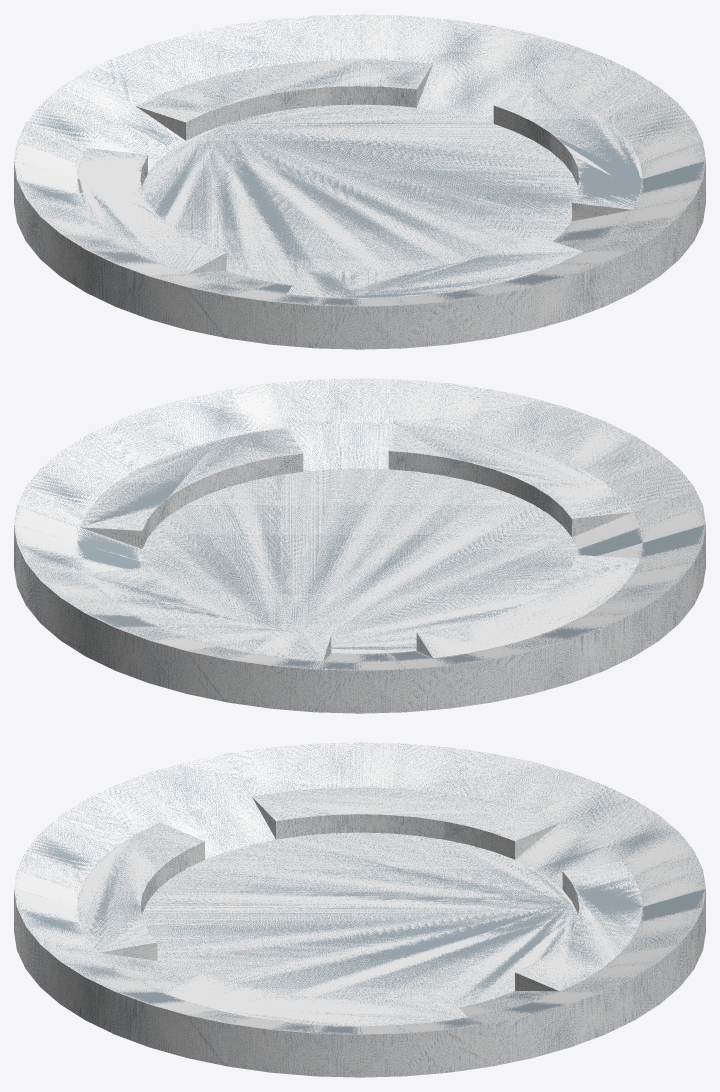
File: 导航地图中心剧场.fbx
3 renders of one model, top to bottom at view 1: azimuth 30°, elevation 25°; view 2: azimuth 150°, elevation 25°; view 3: azimuth 270°, elevation 25°, orthographic.
Parts seen in each view (by area): view 1: Group1; view 2: Group1; view 3: Group1.
Part boxes in pixels (x1,y1,x2,y2): Group1: (14,14,705,349); Group1: (14,378,705,713); Group1: (14,742,705,1077).
Bounding box in the file's own units: 41000 × 2800 × 41000.
